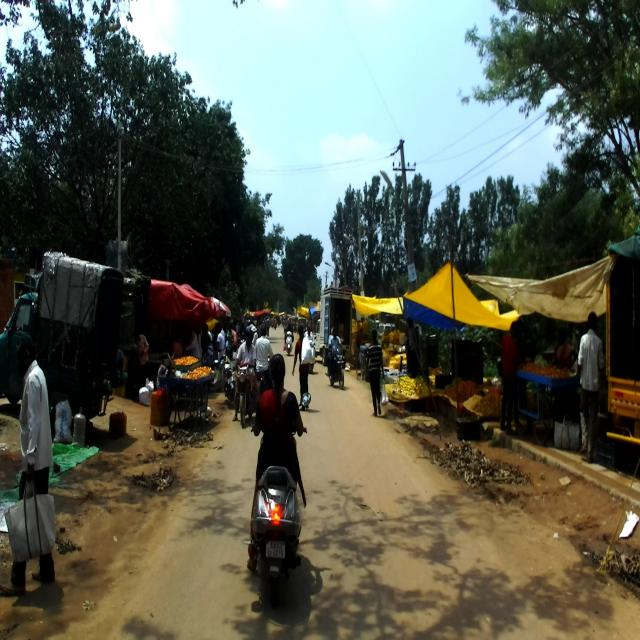scooter: (242, 391, 311, 608)
truck: (0, 251, 123, 415)
